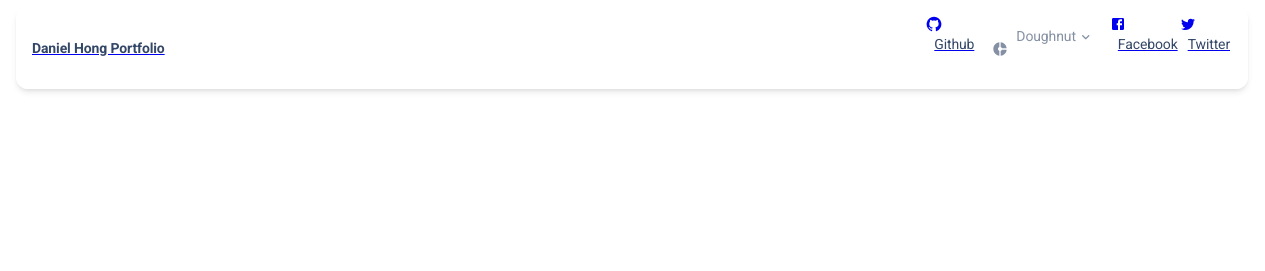
Test case: DefaultNavbar › renders with route
The width and height of the screenshot is (1265, 271).
expect the button "Github" is shown: met, box [934, 36, 974, 52]
expect the button "Facebook" is shown: met, box [1118, 36, 1178, 52]
// Mouse in nested dropdown
Hover over the button "Doughnut": coordinates (1046, 36) [1016, 26, 1076, 47]
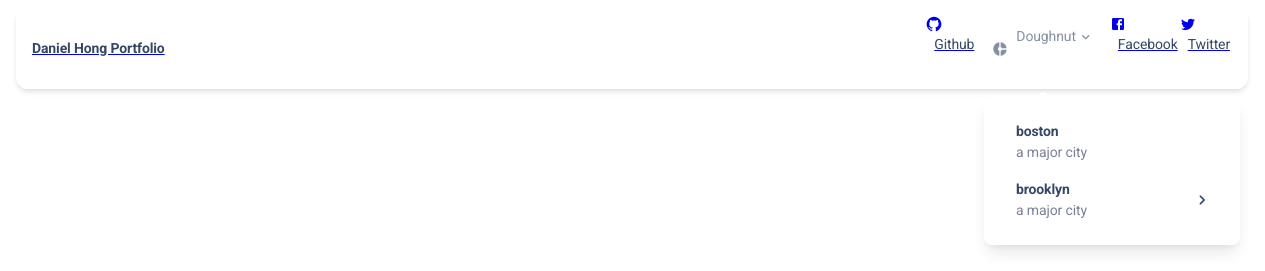
expect the text "brooklyn" is shown: met, box [1016, 181, 1070, 197]
expect the text "boston" is shown: met, box [1016, 123, 1058, 139]
